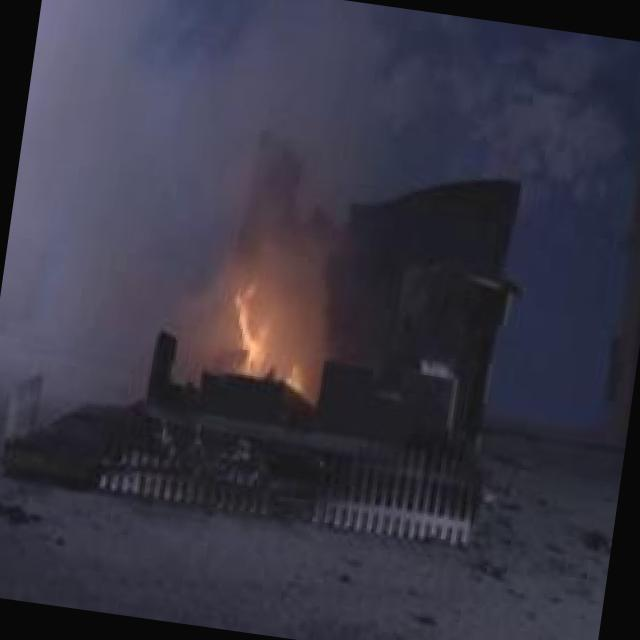fire: (205, 243, 332, 402)
smoke: (3, 0, 225, 295)
